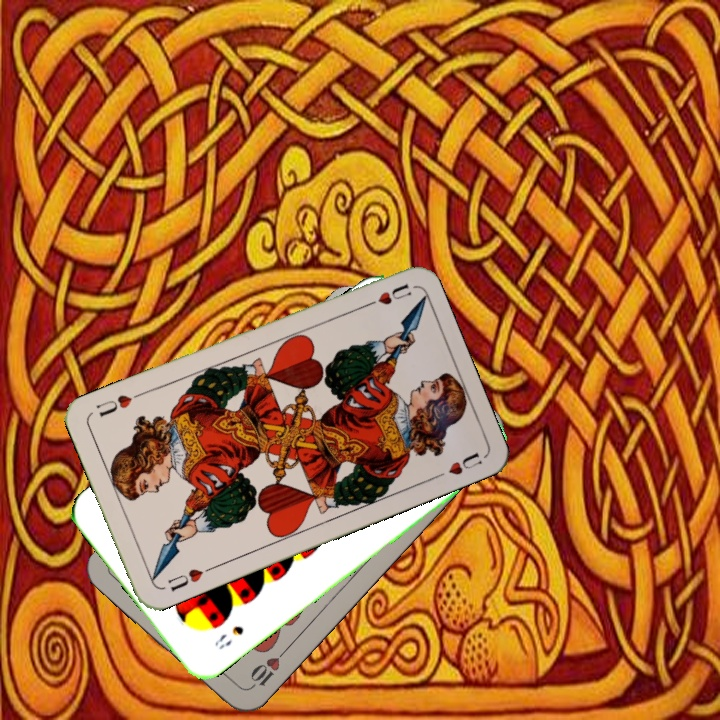H10: (244, 645, 289, 693)
HU: (358, 279, 414, 311), (163, 562, 216, 594)
S8: (210, 621, 247, 653)
